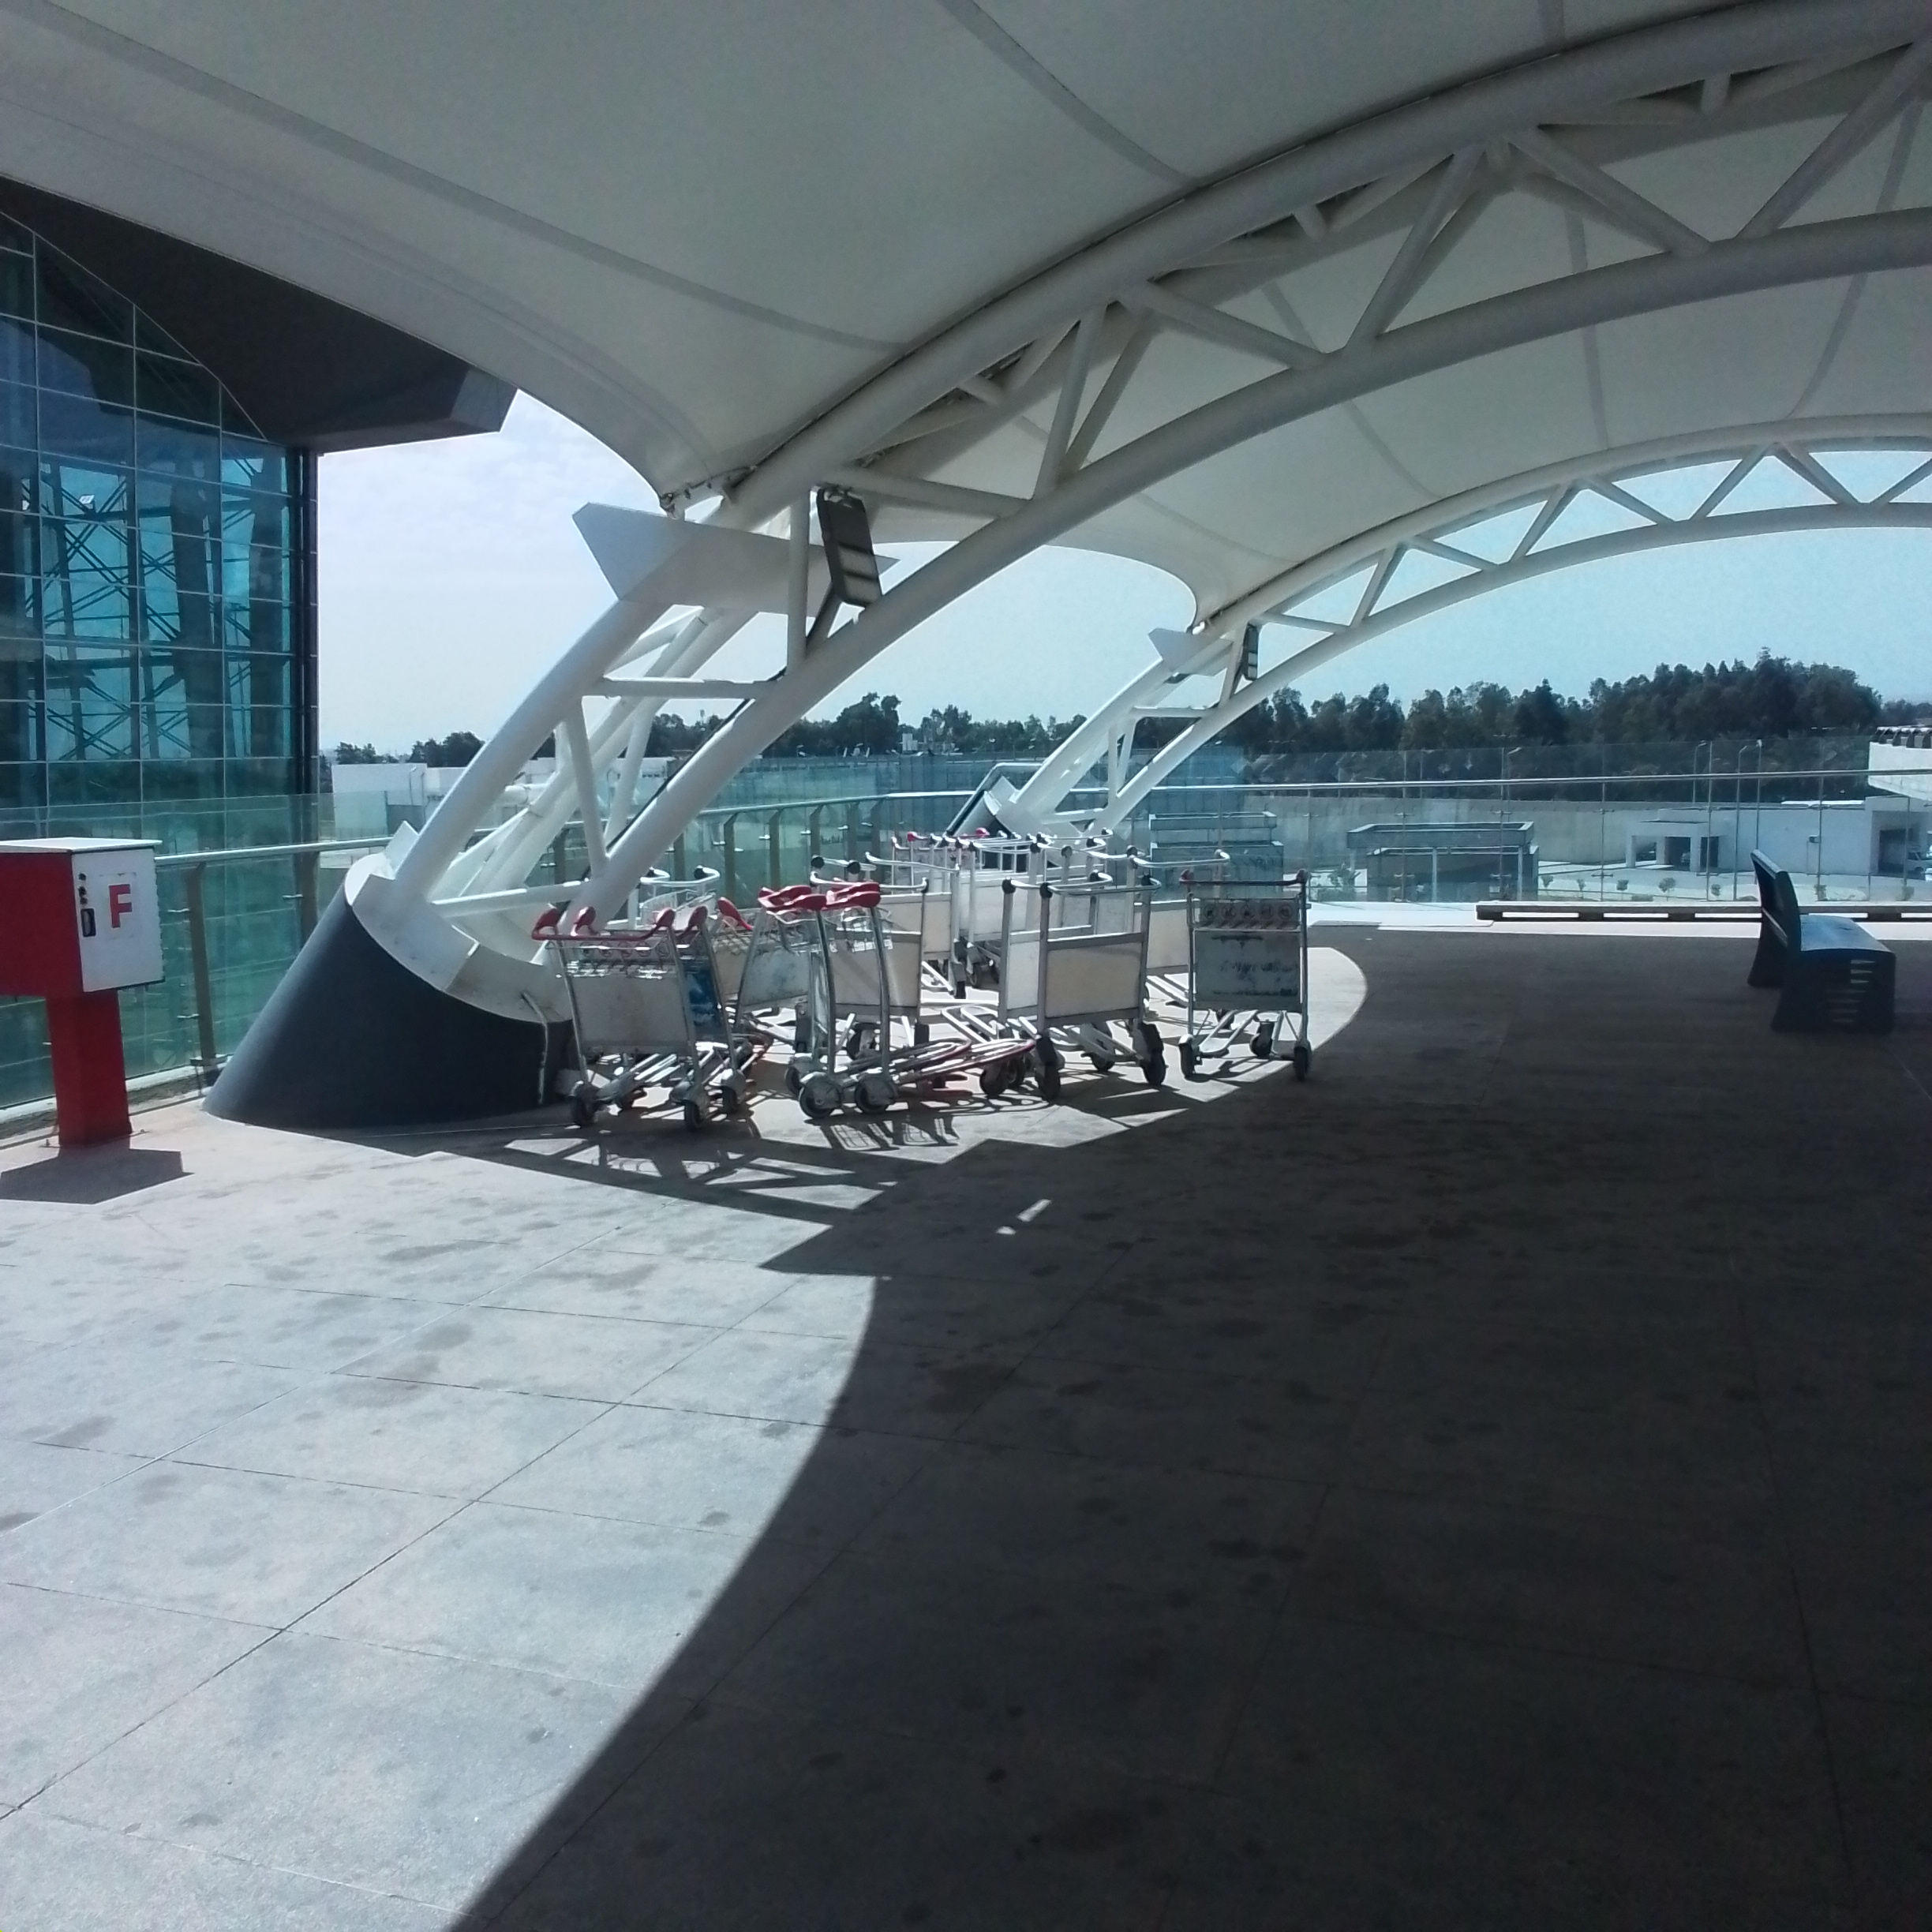airport-trolley: (568, 895, 770, 1125), (527, 918, 704, 1138), (842, 883, 1023, 1097), (1035, 865, 1171, 1097), (1171, 870, 1313, 1086), (989, 867, 1113, 1079), (759, 881, 858, 1113)
